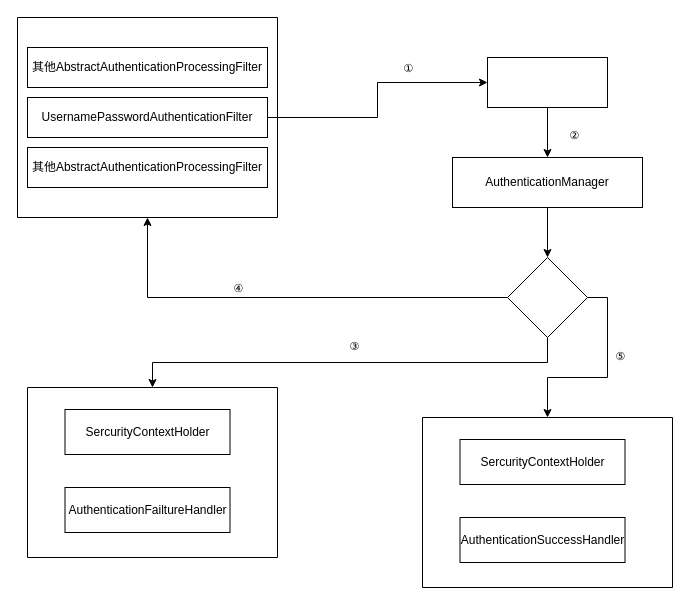
This 690x605 diagram has some shape labels left out. Each missing label, with the centre of its shape:
Authentication: point 547,82
认证结果?: point 547,297
